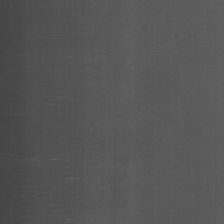waist_folding: (28, 47, 188, 198)
